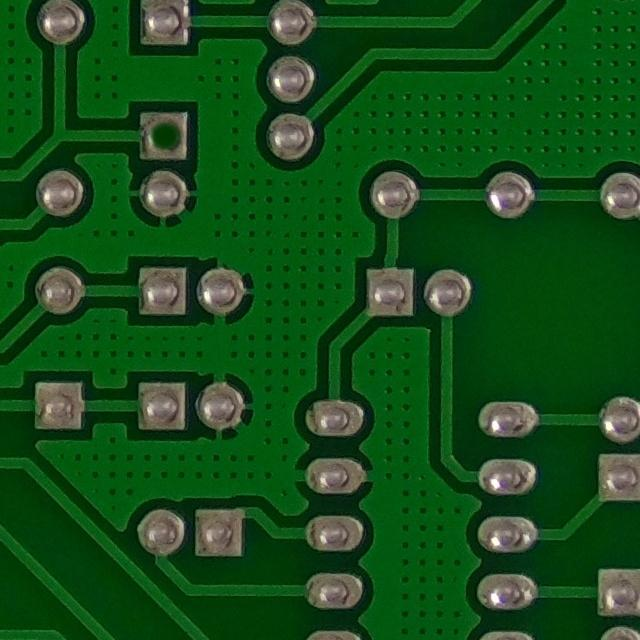missing_hole: (135, 100, 199, 172)
